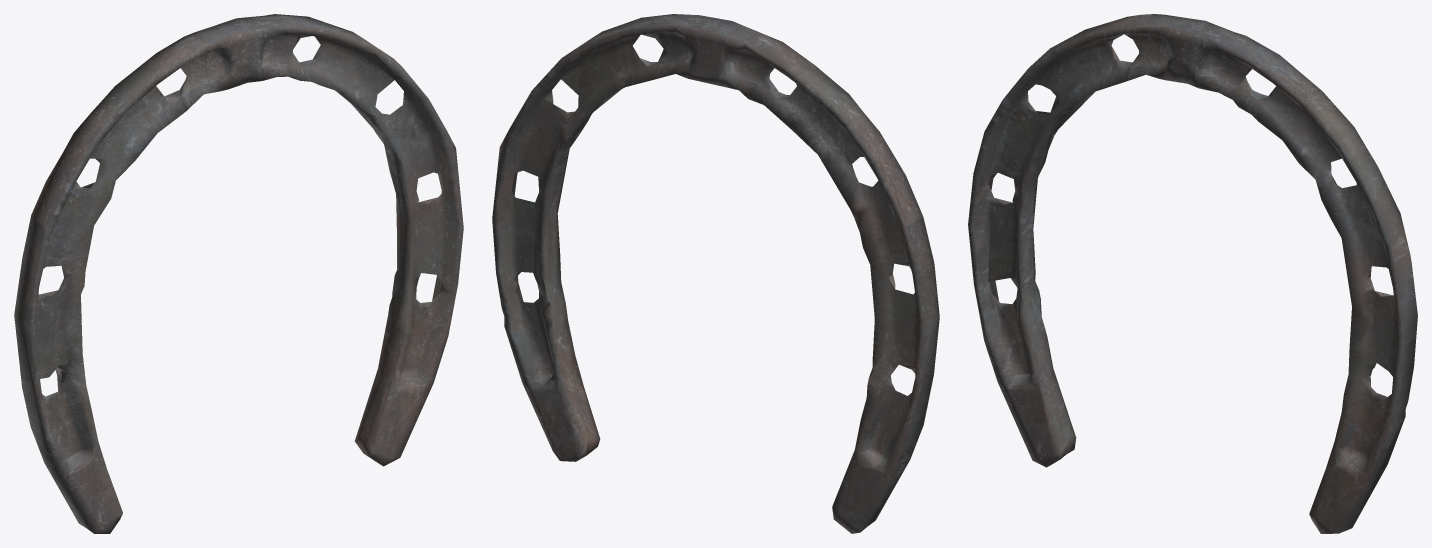
The model's file is SM_Horse_Shoe.fbx.
3 renders of one model, left to right at view 1: azimuth 30°, elevation 25°; view 2: azimuth 150°, elevation 25°; view 3: azimuth 330°, elevation 25°, orthographic.
Parts seen in each view (by area): view 1: SM_Horse_Shoe_LOD0; view 2: SM_Horse_Shoe_LOD0; view 3: SM_Horse_Shoe_LOD0.
Boxes of the visible parts, x1,y1,x2,y2 form: SM_Horse_Shoe_LOD0: (14, 14, 463, 533); SM_Horse_Shoe_LOD0: (492, 14, 939, 533); SM_Horse_Shoe_LOD0: (968, 14, 1417, 533).
Size of the model in its own units: 20.99 by 1.58 by 21.64.
Materials: 1 (1 with a texture image).
